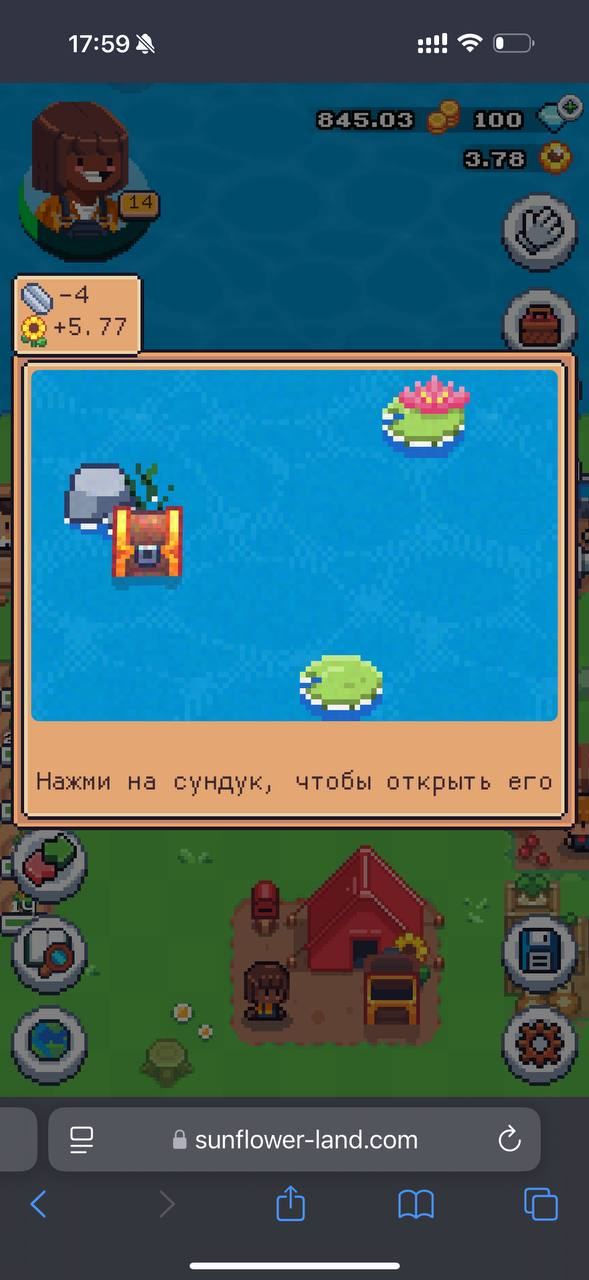capcha_chest: (109, 504, 184, 582)
